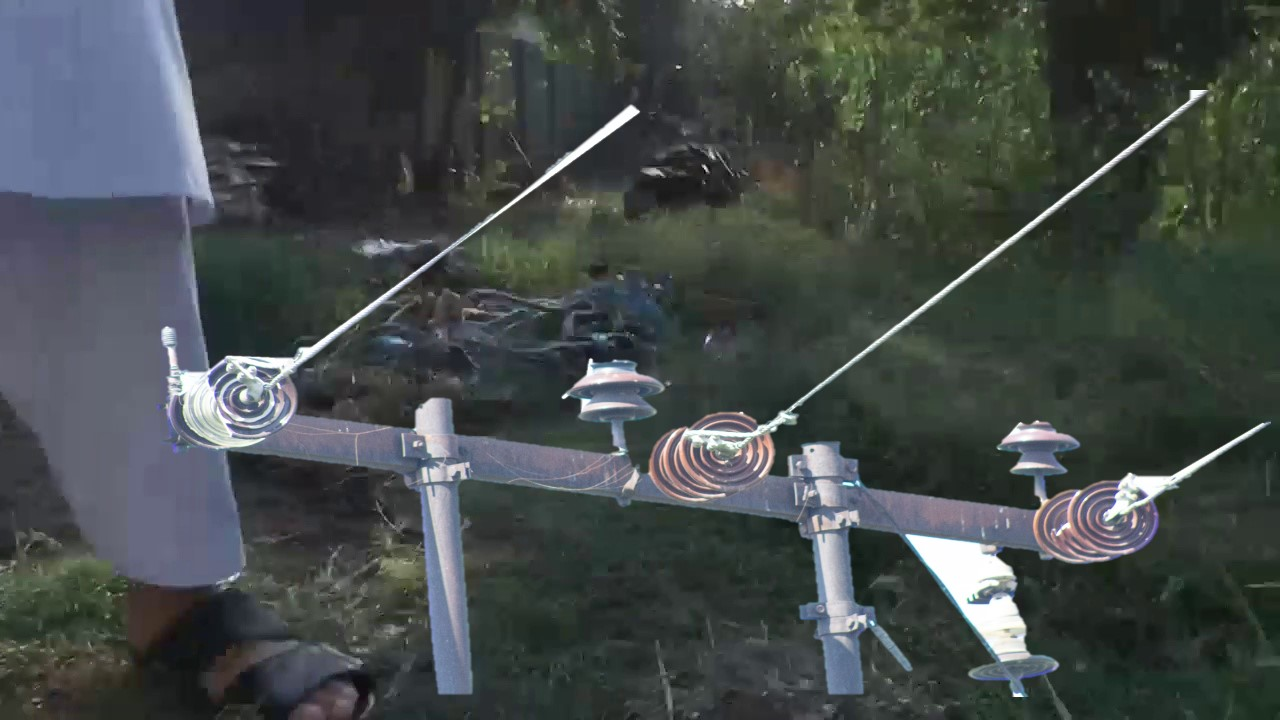defect_disc: (207, 353, 301, 447)
insulator_disc: (677, 407, 776, 494), (1066, 475, 1161, 558)
